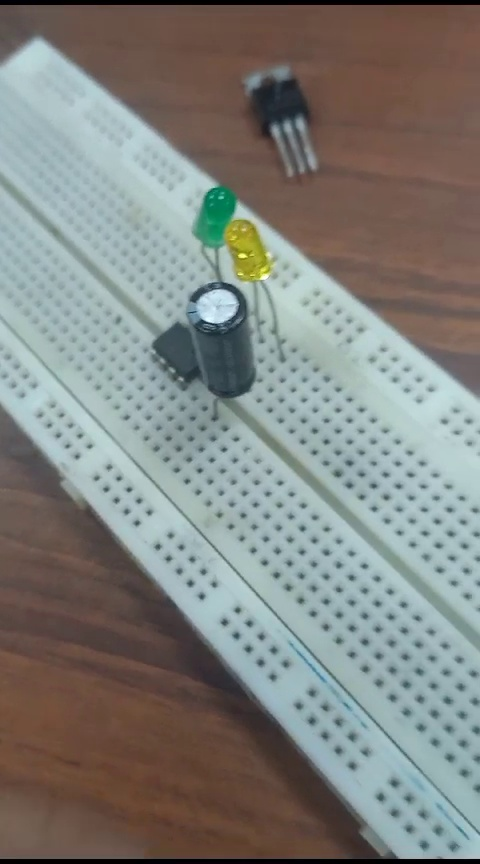IC: (135, 319, 206, 388)
LED: (222, 219, 279, 287), (195, 183, 231, 267)
capacitor: (188, 281, 263, 413)
voltage regulator: (236, 52, 318, 177)
